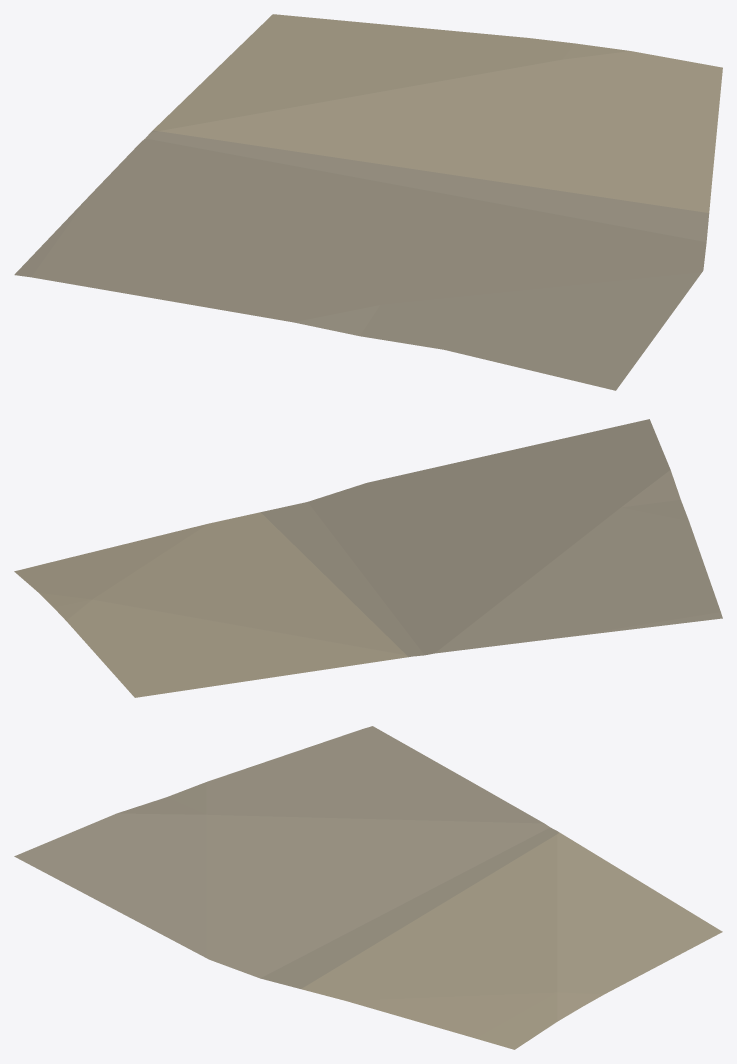
File: farm_-12_-13_soil.glb
The picture shows the model from 3 angles, top to bottom: view 1: azimuth 30°, elevation 25°; view 2: azimuth 150°, elevation 25°; view 3: azimuth 270°, elevation 25°; orthographic projection. The views are drawn at different scales.
Visible parts, largest first — view 1: geometry_0; view 2: geometry_0; view 3: geometry_0.
Part boxes in pixels (box(x1,y1,x2,y2)): geometry_0: box(14, 14, 722, 390); geometry_0: box(14, 419, 722, 697); geometry_0: box(14, 726, 722, 1049).
Bounding box in the file's own units: 151 × 11.4 × 162.
